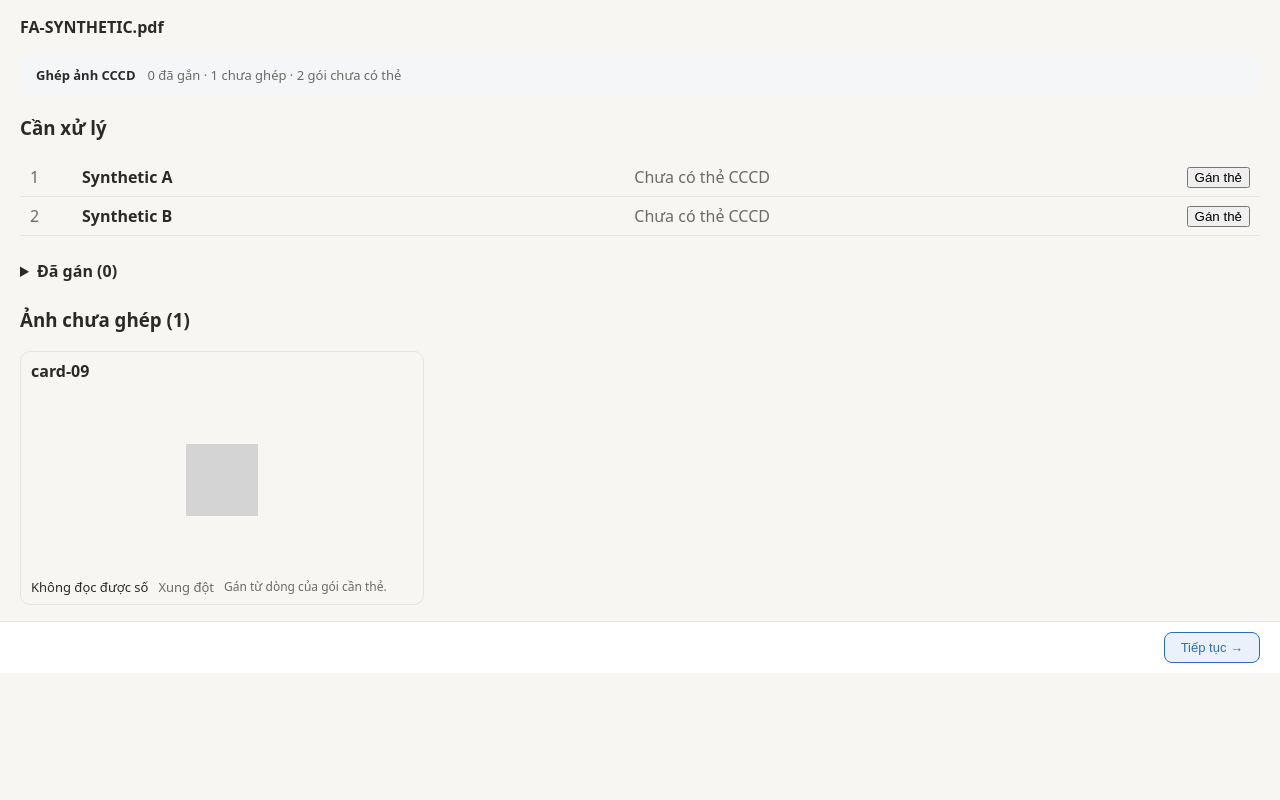
Test: CccdReviewScreen › also opens the full-size viewer from an unattached card row
Click the button named "Xem cả hai mặt của ảnh CCCD card-09": click(222, 480) [21,390,423,570]
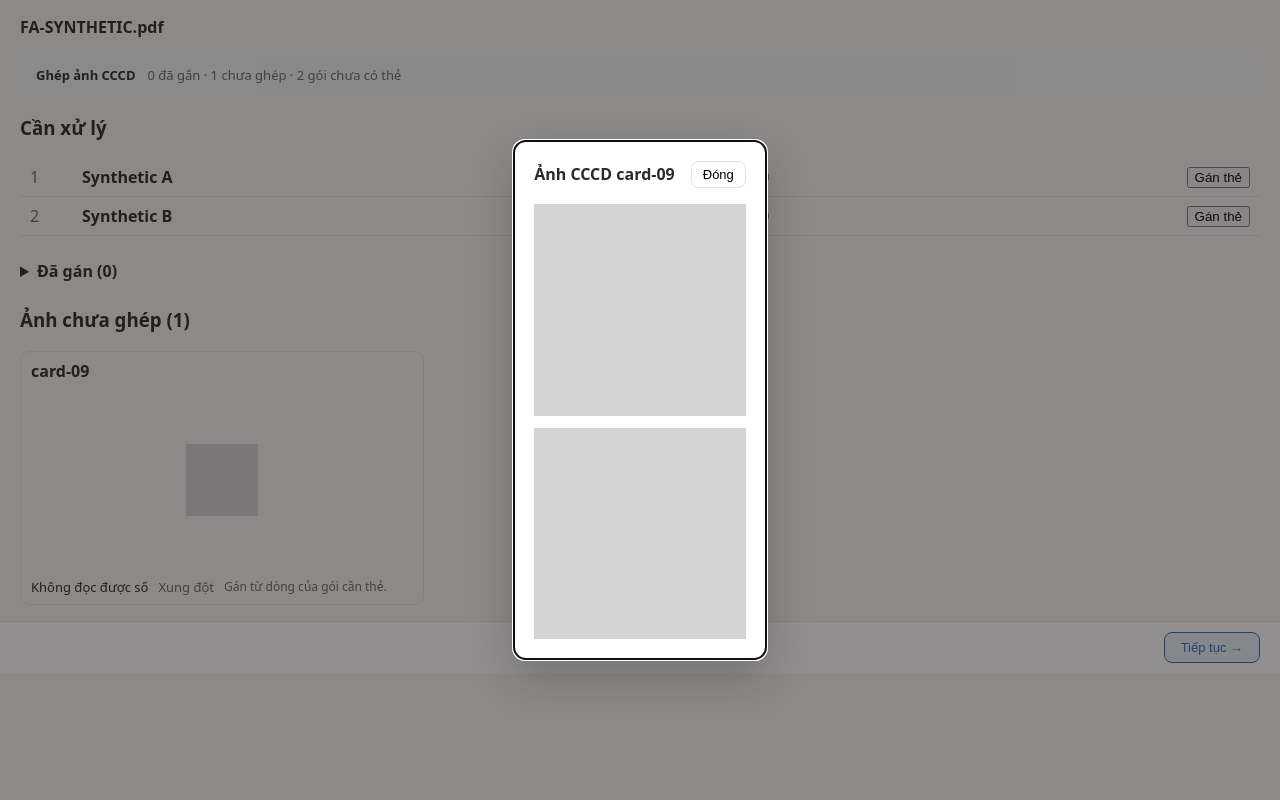
Expected: the dialog is shown, [513,140,767,660]
